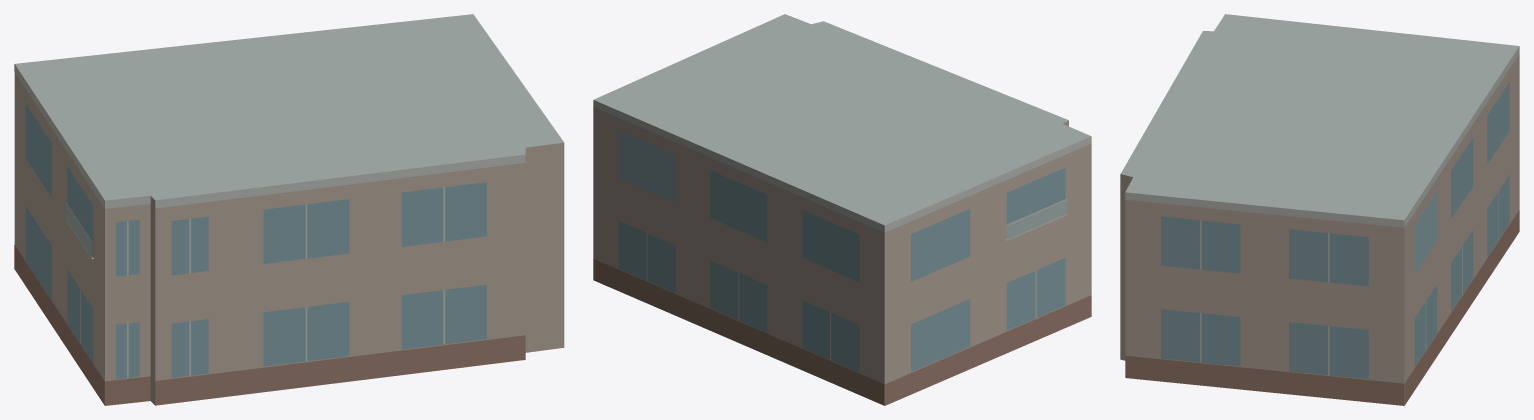
Rendered from survey-upis-32752639.glb.
3 renders of one model, left to right at view 1: azimuth 30°, elevation 25°; view 2: azimuth 150°, elevation 25°; view 3: azimuth 270°, elevation 25°, orthographic. The views are drawn at different scales.
Visible parts, largest first — view 1: survey-upis-32752639.tmp; view 2: survey-upis-32752639.tmp; view 3: survey-upis-32752639.tmp.
Boxes of the visible parts, bbox=[...] form: survey-upis-32752639.tmp: bbox=[14, 14, 564, 405]; survey-upis-32752639.tmp: bbox=[593, 14, 1091, 405]; survey-upis-32752639.tmp: bbox=[1120, 14, 1519, 405].
Size of the model in its own units: 14.55 by 6.1 by 11.9.
